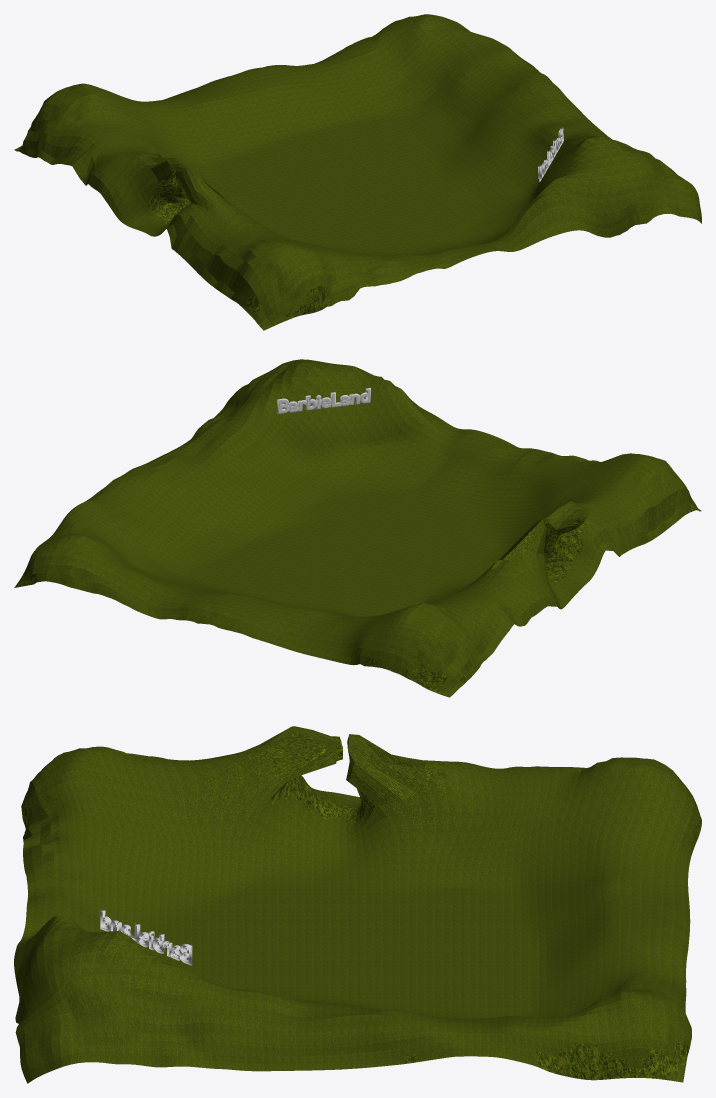
File: landscape.obj
3 renders of one model, top to bottom at view 1: azimuth 30°, elevation 25°; view 2: azimuth 150°, elevation 25°; view 3: azimuth 270°, elevation 25°, orthographic. The views are drawn at different scales.
Visible parts, largest first — view 1: Plane; view 2: Plane, Barbie, Barbie.001; view 3: Plane, Barbie.001, Barbie.
Boxes of the visible parts, <box> form: Plane: <box>14,14,701,330</box>; Plane: <box>14,359,701,697</box>; Barbie: <box>277,388,370,414</box>; Barbie.001: <box>279,389,369,412</box>; Plane: <box>14,726,701,1083</box>; Barbie.001: <box>101,910,192,962</box>; Barbie: <box>100,909,192,965</box>.
Bounding box in the file's own units: 19.71 × 3.45 × 19.94.
